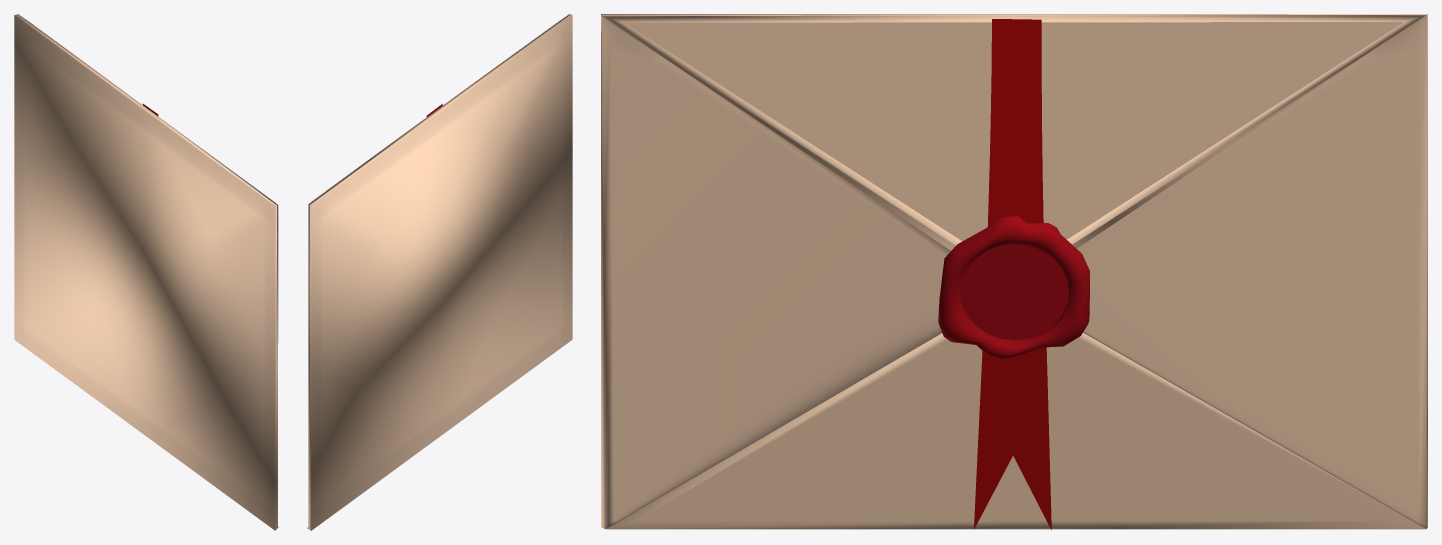
File: envelope.glb
The picture shows the model from 3 angles, left to right: view 1: azimuth 30°, elevation 25°; view 2: azimuth 150°, elevation 25°; view 3: azimuth 270°, elevation 25°; orthographic projection. The views are drawn at different scales.
Parts seen in each view (by area): view 1: object 1; view 2: object 1; view 3: object 1, Плоскость, WaxSeal2_WaxSeal2_0.
Part boxes in pixels (x1=…): object 1: x1=14, y1=14, x2=278, y2=530; object 1: x1=307, y1=14, x2=572, y2=530; object 1: x1=601, y1=14, x2=1427, y2=529; Плоскость: x1=974, y1=19, x2=1051, y2=529; WaxSeal2_WaxSeal2_0: x1=938, y1=216, x2=1089, y2=359.
Size of the model in its own units: 0.0446 by 0.5999 by 0.8725.
3 materials, 2 textured.
